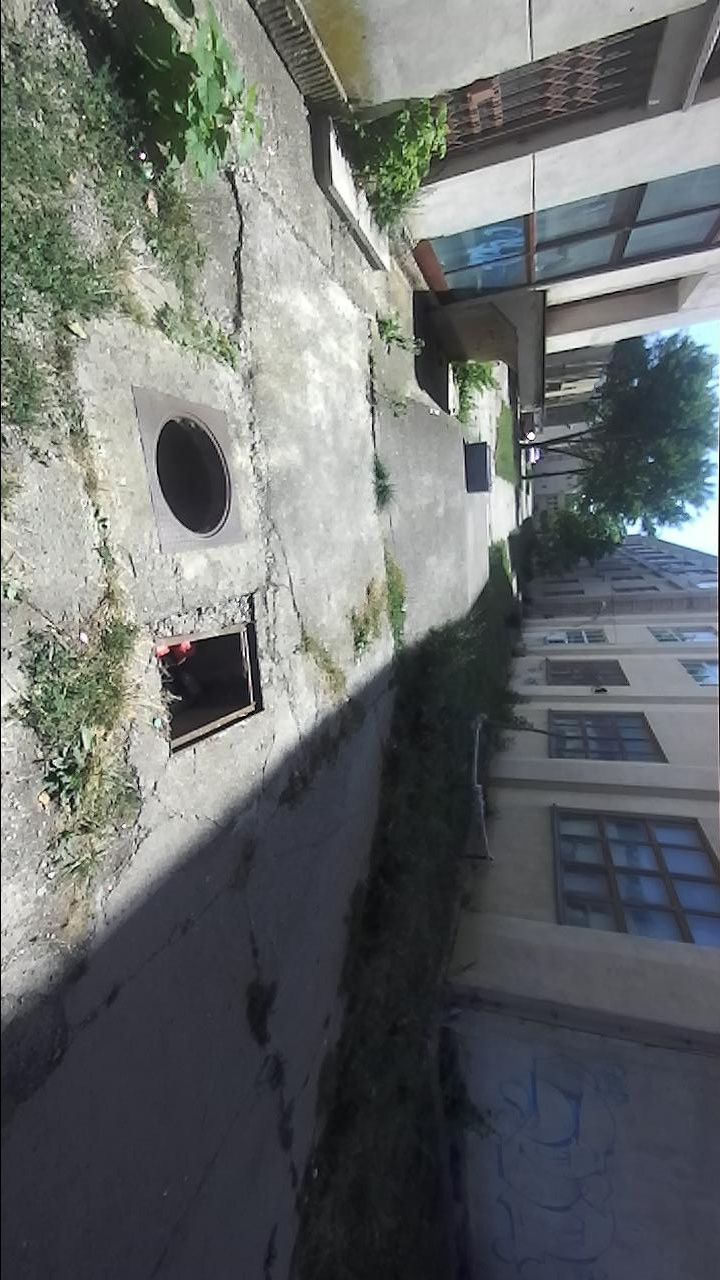drain: (156, 613, 269, 761), (146, 406, 233, 543)
